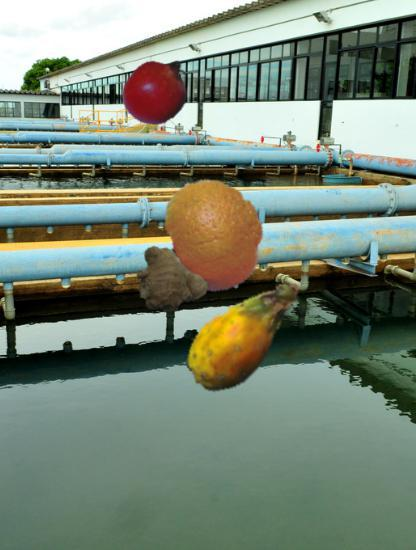Cactus: (174, 262, 316, 404)
Ginger: (136, 242, 207, 313)
Mandarine: (158, 176, 274, 292)
Pomegranate: (121, 54, 195, 128)
